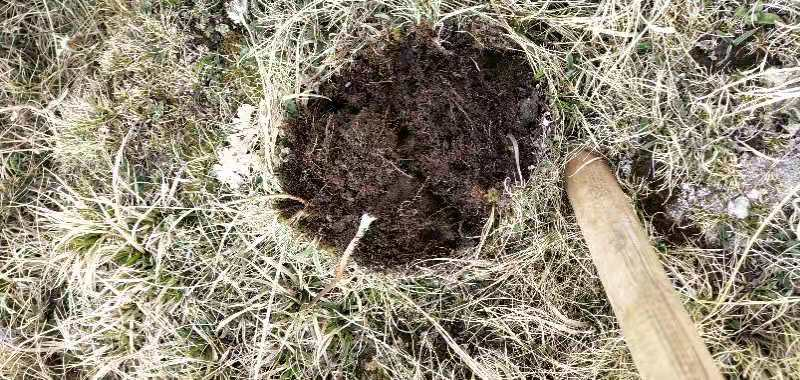cpf: (304, 216, 379, 312)
